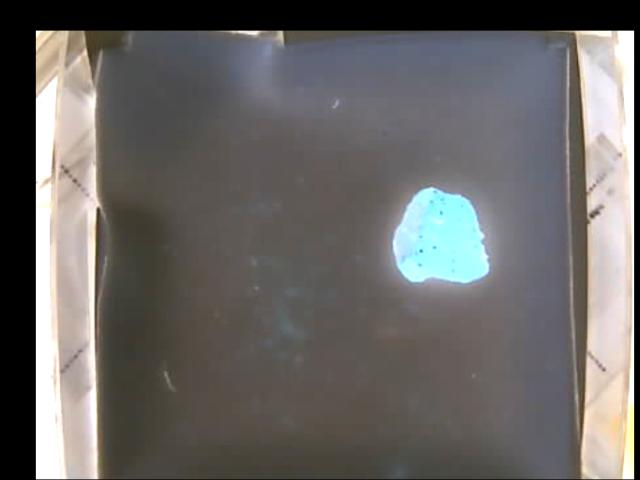Brisk: (395, 186, 488, 284)
